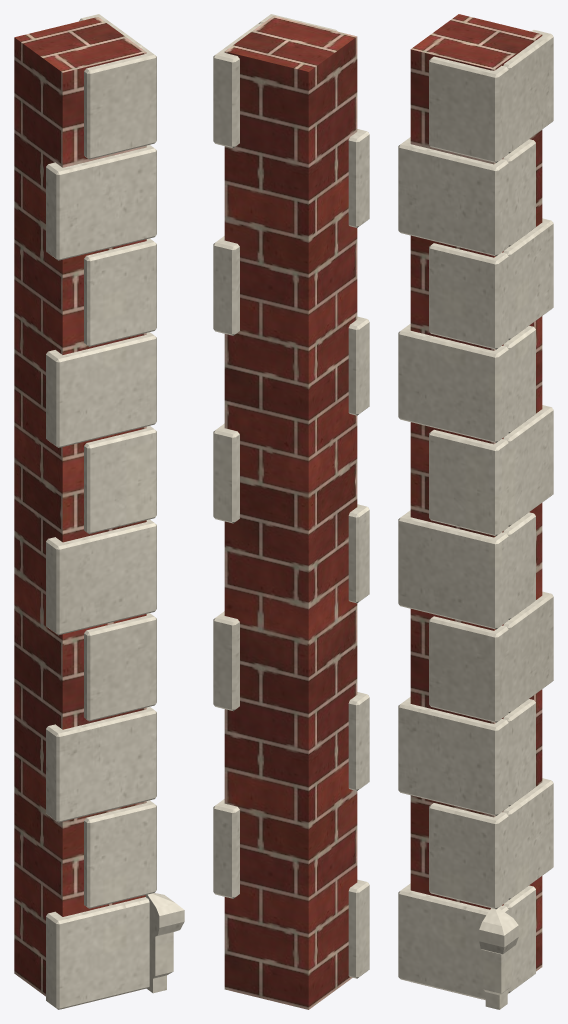
Rendered from corner_u1.glb.
The picture shows the model from 3 angles, left to right: view 1: azimuth 30°, elevation 25°; view 2: azimuth 150°, elevation 25°; view 3: azimuth 330°, elevation 25°; orthographic projection.
Visible parts, largest first — view 1: corner_u1_trim, corner_u1_brick; view 2: corner_u1_brick, corner_u1_trim; view 3: corner_u1_trim, corner_u1_brick.
Part boxes in pixels (x1,y1,x2,y2): corner_u1_trim: [46, 14, 184, 1009]; corner_u1_brick: [14, 17, 146, 1006]; corner_u1_brick: [224, 16, 357, 1009]; corner_u1_trim: [213, 14, 369, 978]; corner_u1_trim: [398, 30, 553, 1009]; corner_u1_brick: [410, 14, 542, 999].
Bounding box in the file's own units: 0.42 × 3.2 × 0.42.
2 materials, 2 textured.
